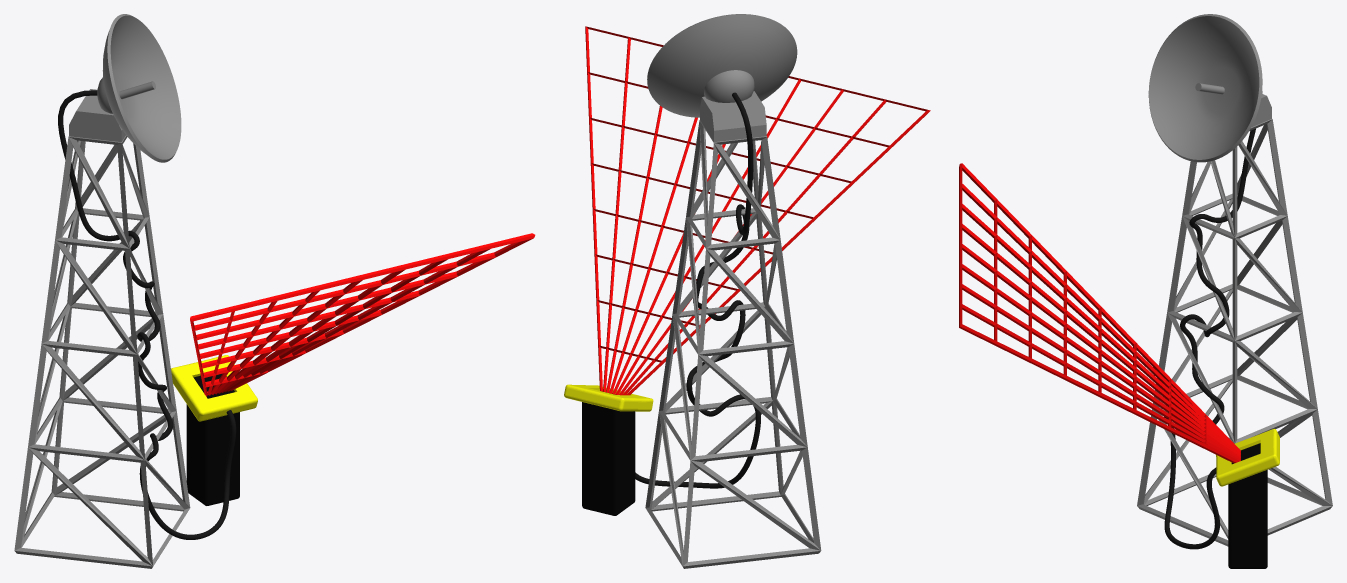
Rendered from Print-Object.obj.
3 views of the same model, side by side, from view 1: azimuth 30°, elevation 25°; view 2: azimuth 150°, elevation 25°; view 3: azimuth 270°, elevation 25° (orthographic). The views are drawn at different scales.
Parts seen in each view (by area): view 1: Cube.006, ScanMoving, Plane.005, Cube.002, NurbsPath.005, Cube.003, Cube.005; view 2: Cube.006, ScanMoving, Plane.005, Cube.002, NurbsPath.005, Cube.005, Cube.003; view 3: Cube.006, ScanMoving, Plane.005, Cube.002, NurbsPath.005, Cube.003.
Part boxes in pixels (left/top/right/bottom): Cube.006: left=14, top=135, right=190, bottom=568; ScanMoving: left=190, top=233, right=535, bottom=396; Plane.005: left=97, top=14, right=181, bottom=162; Cube.002: left=186, top=404, right=239, bottom=505; NurbsPath.005: left=58, top=90, right=236, bottom=539; Cube.003: left=171, top=355, right=257, bottom=421; Cube.005: left=69, top=89, right=125, bottom=142; Cube.006: left=645, top=120, right=821, bottom=568; ScanMoving: left=585, top=26, right=930, bottom=395; Plane.005: left=647, top=14, right=797, bottom=117; Cube.002: left=582, top=402, right=635, bottom=515; NurbsPath.005: left=635, top=92, right=760, bottom=488; Cube.005: left=700, top=91, right=766, bottom=141; Cube.003: left=564, top=384, right=653, bottom=411; Cube.006: left=1137, top=119, right=1332, bottom=546; ScanMoving: left=959, top=163, right=1240, bottom=463; Plane.005: left=1148, top=14, right=1262, bottom=162; Cube.002: left=1228, top=470, right=1267, bottom=568; NurbsPath.005: left=1164, top=91, right=1262, bottom=549; Cube.003: left=1216, top=429, right=1279, bottom=486.
Bounding box in the file's own units: 64.27 × 83.23 × 56.97.
